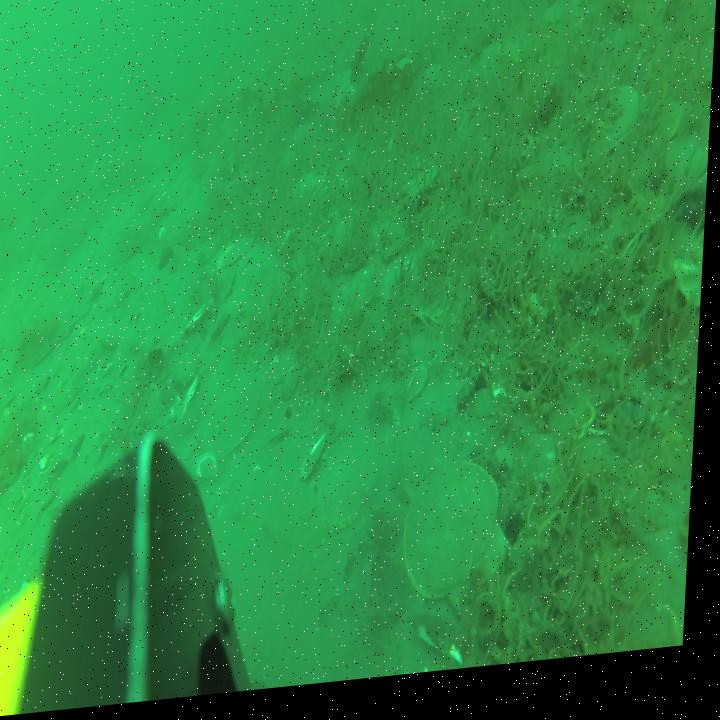scallop: (406, 472, 523, 634), (325, 439, 387, 541), (201, 373, 267, 465), (596, 99, 642, 171), (218, 240, 258, 274), (106, 282, 138, 318), (296, 177, 330, 207)
